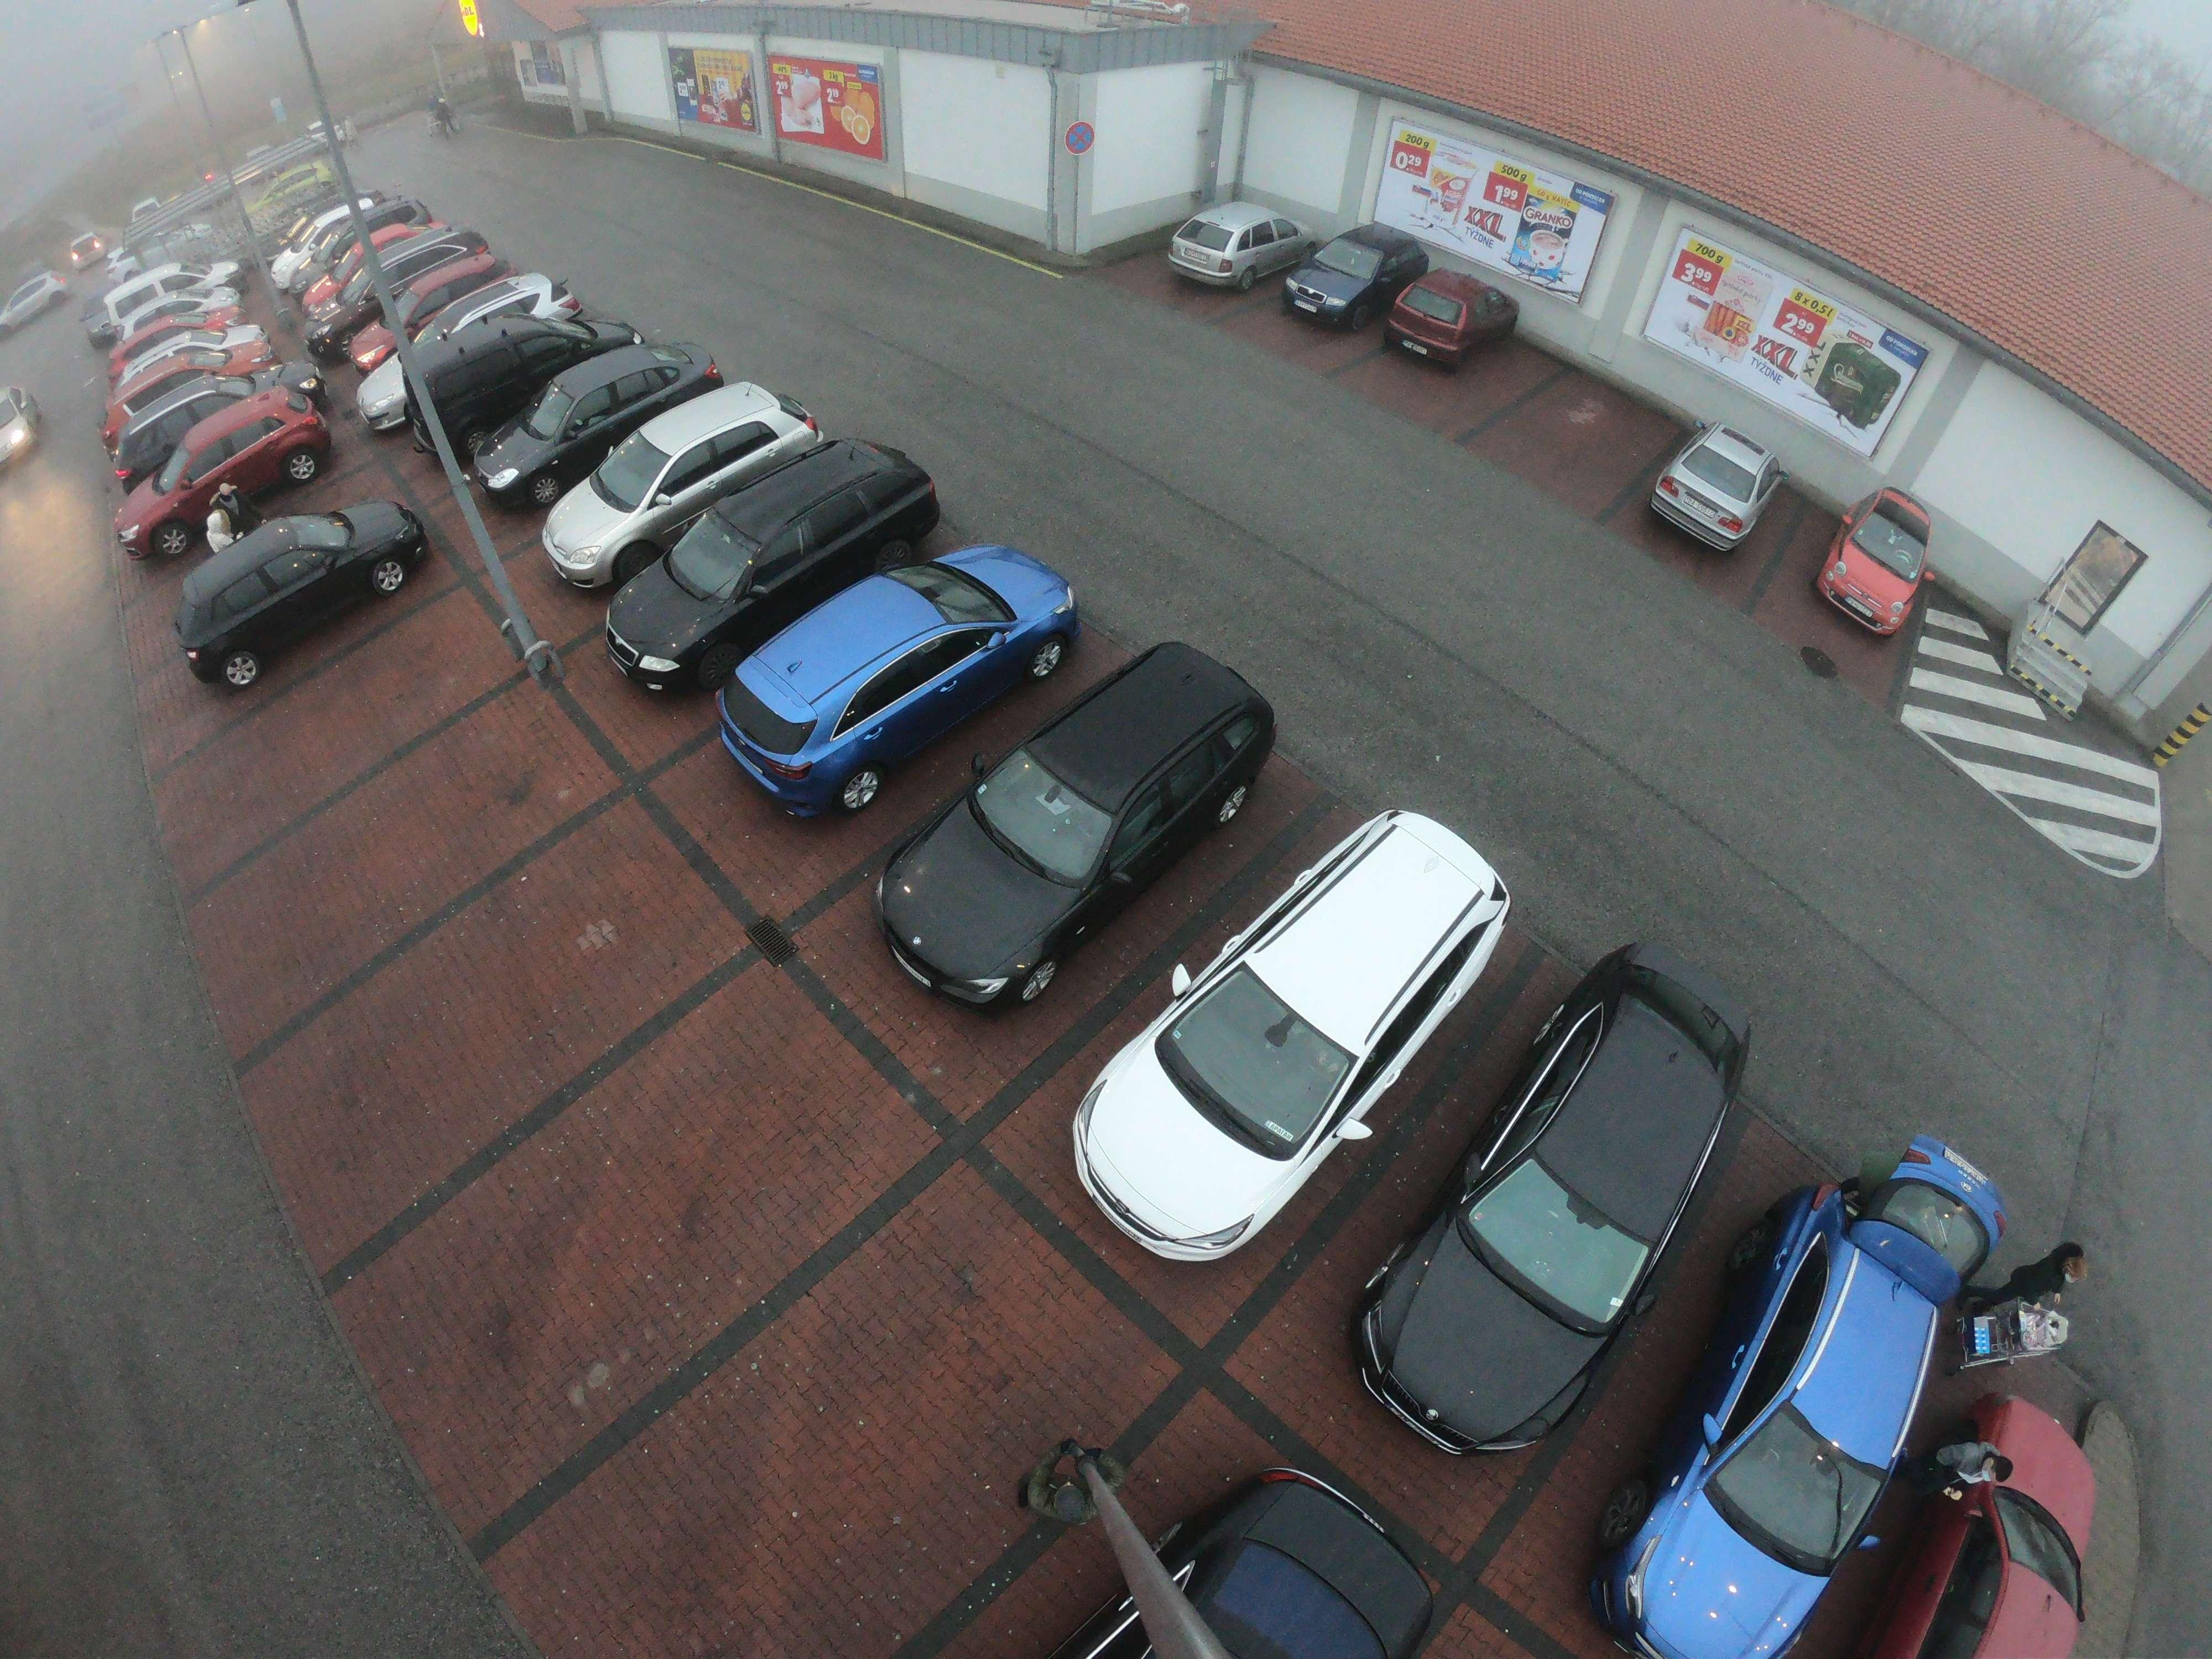empty: (1366, 953, 1782, 1466), (1080, 816, 1531, 1277), (1635, 1155, 1989, 1656), (880, 662, 1298, 1009), (1042, 1450, 1477, 1659), (733, 556, 1076, 812), (624, 450, 925, 673), (1909, 1317, 2102, 1659), (554, 399, 803, 563), (176, 511, 411, 678), (117, 390, 341, 540), (477, 350, 707, 495), (387, 298, 603, 427), (315, 237, 536, 349), (1644, 422, 1791, 565), (1810, 491, 1944, 634), (1378, 261, 1508, 369), (1160, 199, 1312, 291), (1278, 223, 1406, 326)
occupied: (686, 1333, 974, 1656), (512, 1117, 786, 1344), (312, 774, 500, 904), (406, 960, 592, 1070), (1512, 376, 1635, 483), (282, 660, 418, 742)
